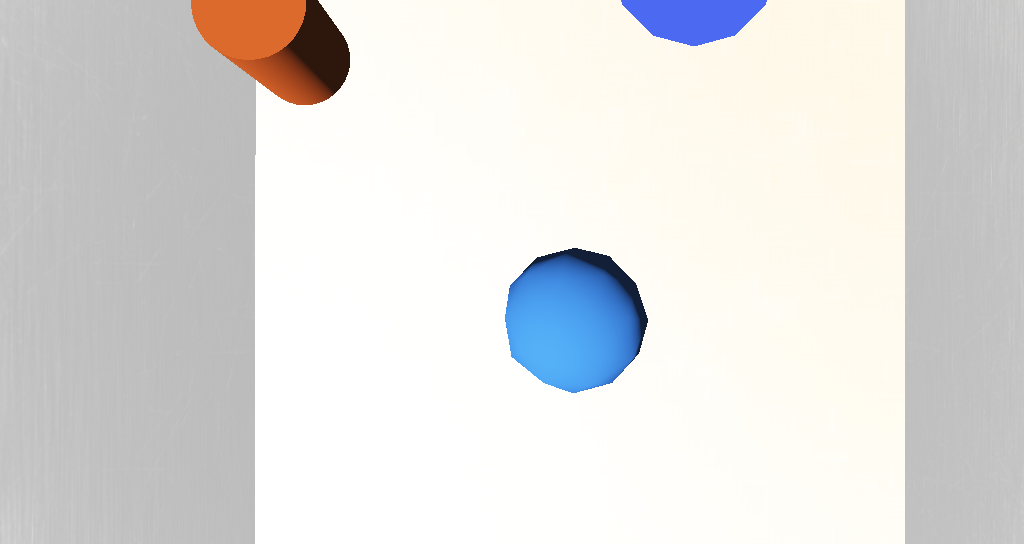cone: (340, 174, 401, 217)
cylinder: (515, 157, 576, 205)
sphere: (465, 258, 532, 305)
